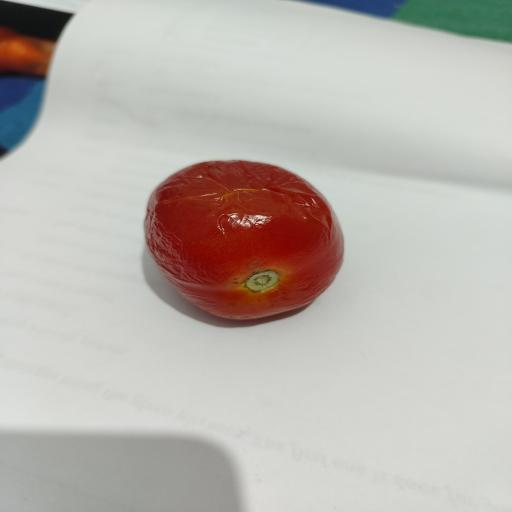spoiled: (145, 161, 344, 319)
